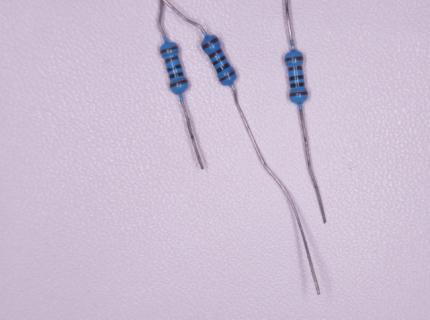Black band: (212, 55, 226, 66), (216, 62, 230, 73), (167, 64, 182, 73), (170, 72, 183, 79), (289, 75, 304, 81), (290, 82, 304, 88)
Brown band: (202, 37, 219, 50), (219, 70, 235, 82), (209, 48, 223, 59), (170, 80, 188, 88), (161, 46, 178, 54), (165, 55, 180, 64), (289, 91, 308, 97), (288, 66, 303, 72), (285, 56, 303, 61)
